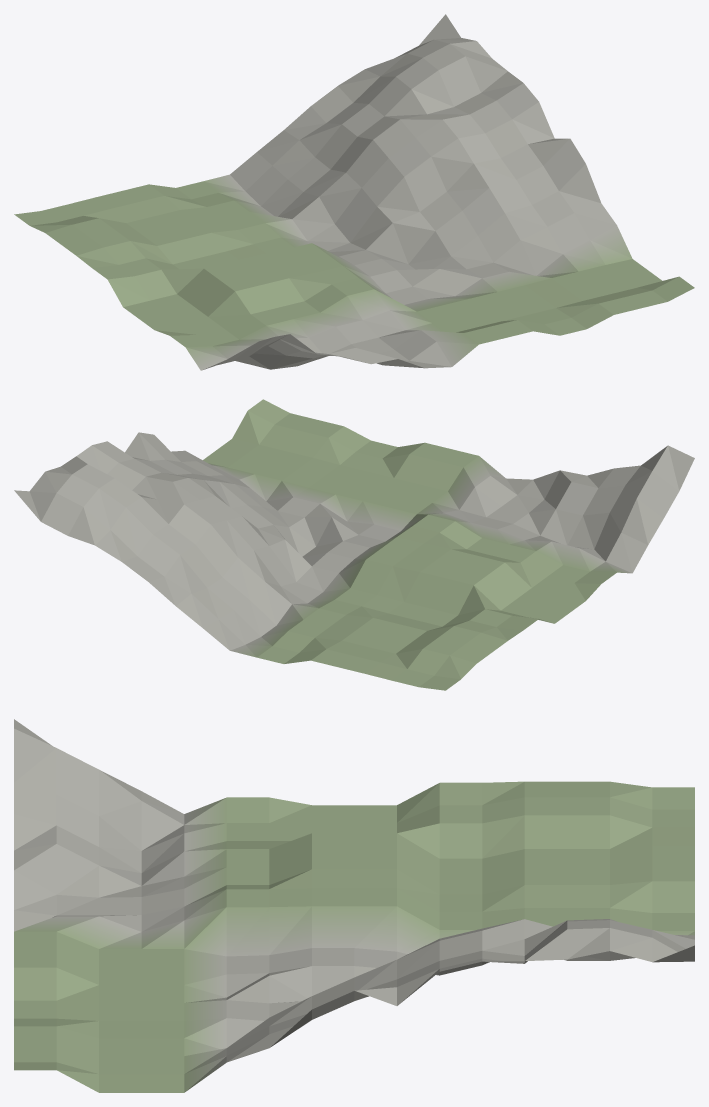
3 renders of one model, top to bottom at view 1: azimuth 30°, elevation 25°; view 2: azimuth 150°, elevation 25°; view 3: azimuth 270°, elevation 25°, orthographic. The views are drawn at different scales.
Size of the model in its own units: 32 by 8.47 by 32.
